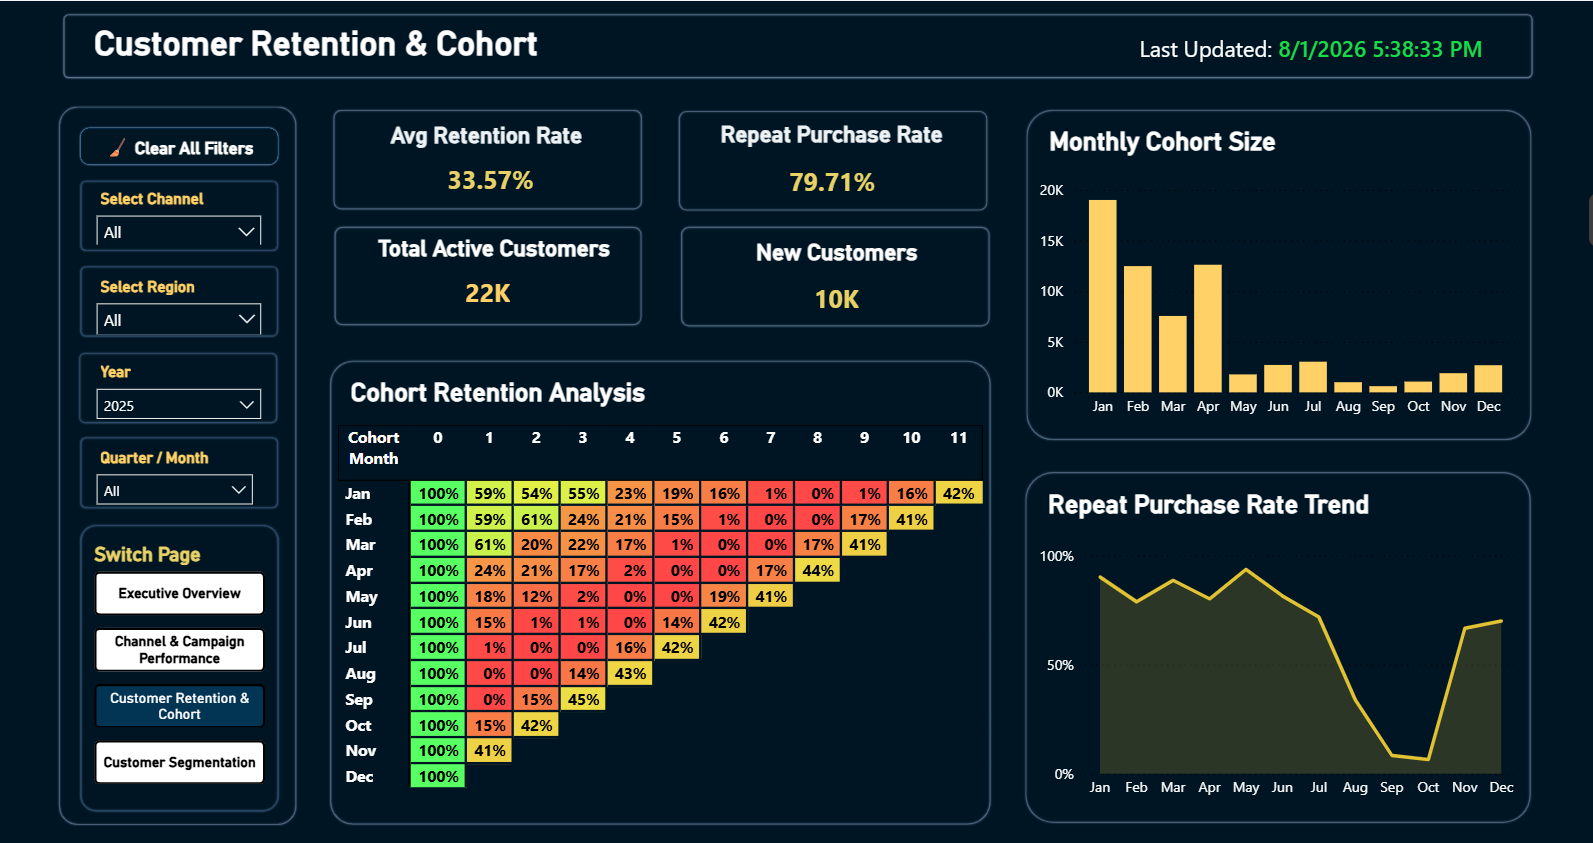

The dashboard page shown, as its layout file describes it:
{"tool":"powerbi","page":{"name":"Customer Retention & Cohort","canvas":[1280,720],"ordinal":2},"visuals":[{"type":"cardVisual","fields":{"Data":["Min(dim_customers.loaded_at)"]},"box":[1021.2,6.9,248.8,48.6],"z":0,"group":"g8"},{"type":"shape","title":"Shape","box":[13.7,54.7,206.5,637.4],"z":0,"group":"g15"},{"type":"group","id":"g1","title":"Charts","box":[236.5,54.7,1035.6,642.2],"z":0},{"type":"shape","box":[237.4,54.7,272.9,113.3],"z":0,"group":"g9"},{"type":"shape","box":[815.4,54.8,456.7,313],"z":0,"group":"g10"},{"type":"shape","box":[527.1,56,272.9,111.4],"z":0,"group":"g16"},{"type":"actionButton","title":"Clear Filters","box":[28.9,71.5,133.3,27.3],"z":0,"group":"g11"},{"type":"group","id":"g2","title":"Filters","box":[24.8,107.4,182.5,326.2],"z":0,"group":"g17"},{"type":"shape","box":[31,169.7,170.5,28.9],"z":0,"group":"g22"},{"type":"group","id":"g3","title":"Active Customers","box":[237,184,272.9,112],"z":0,"group":"g21"},{"type":"shape","box":[526.6,184.8,272.9,113.7],"z":0,"group":"g23"},{"type":"shape","box":[29.2,248.4,170.5,28.9],"z":0,"group":"g18"},{"type":"shape","box":[236.6,315.2,562.9,381.7],"z":0,"group":"g19"},{"type":"shape","box":[29.1,325.3,170.5,28.9],"z":0,"group":"g12"},{"type":"group","id":"g4","title":"Quarter / Month","box":[27.6,373.8,179.7,59.8],"z":0,"group":"g2"},{"type":"shape","box":[815.3,383.8,455.8,311.9],"z":0,"group":"g5"},{"type":"group","id":"g5","title":"Repeat Purchase","box":[815.3,383.8,456.7,311.7],"z":0,"group":"g1"},{"type":"shape","box":[31.5,404.7,170.5,28.9],"z":0,"group":"g4"},{"type":"pageNavigator","title":"Switch Page","box":[24.9,495.2,186.3,186.6],"z":0,"group":"g6"},{"type":"group","id":"g6","title":"Group 1","box":[24.9,495.2,186.3,186.6],"z":0,"group":"g13"},{"type":"actionButton","title":"Clear Filters","box":[34.2,495.3,33.4,38.7],"z":0,"group":"g14"},{"type":"actionButton","title":"Clear Filters","box":[34.2,545.2,33.4,38.7],"z":0,"group":"g20"},{"type":"actionButton","title":"Clear Filters","box":[34.2,593.3,33.4,38.7],"z":0,"group":"g24"},{"type":"actionButton","title":"Clear Filters","box":[34.2,642,33.4,38.7],"z":0,"group":"g26"},{"type":"shape","box":[237,184,272.9,112],"z":125,"group":"g3"},{"type":"cardVisual","fields":{"Data":["Sum(agg_customer_cohort.active_customers)"]},"box":[264.2,226.7,226.4,62.1],"z":250,"group":"g3"},{"type":"group","id":"g7","title":"Group 3","box":[273,193.2,205.7,43.6],"z":750,"group":"g3"},{"type":"group","id":"g8","title":"Last Updated","box":[919.7,6.9,350.4,48.6],"z":1000,"group":"g25"},{"type":"textbox","box":[919.7,15.5,143,35.8],"z":1000,"group":"g8"},{"type":"group","id":"g9","title":"Avg. Retention Rate","box":[237.4,54.7,272.9,113.3],"z":1000,"group":"g21"},{"type":"group","id":"g10","title":"Cohort Size","box":[815.4,54.8,456.7,313],"z":1000,"group":"g1"},{"type":"group","id":"g11","title":"Clear Filters","box":[28.9,71.5,133.3,27.3],"z":1000,"group":"g17"},{"type":"clusteredColumnChart","fields":{"Category":["dim_date.month_name_short"],"Y":["Sum(agg_customer_cohort.cohort_size)"]},"box":[823.9,115.7,438.5,238],"z":1000,"group":"g10"},{"type":"slicer","fields":{"Values":["dim_channels.channel_name"]},"box":[27.5,135.7,178.1,56.9],"z":1000,"group":"g22"},{"type":"textbox","box":[308.1,202.3,170.7,34.4],"z":1000,"group":"g7"},{"type":"slicer","fields":{"Values":["agg_customer_cohort.region"]},"box":[24.8,214.5,178.1,57.8],"z":1000,"group":"g18"},{"type":"slicer","fields":{"Values":["dim_date.year_value"]},"box":[25.9,293,178.1,56.9],"z":1000,"group":"g12"},{"type":"group","id":"g12","title":"Year","box":[25.9,293,178.1,61.2],"z":1000,"group":"g2"},{"type":"pivotTable","fields":{"Columns":["agg_customer_cohort.months_since_acquisition"],"Rows":["dim_date.month_name_short"],"Values":["agg_customer_cohort.Retention Rate"]},"box":[236.5,366.3,562.7,326.3],"z":1000,"group":"g19"},{"type":"slicer","fields":{"Values":["dim_date.quarter_name","dim_date.month_name_short"]},"box":[27.6,373.8,179.7,57.8],"z":1000,"group":"g4"},{"type":"textbox","box":[832.2,395,305.5,49.4],"z":1000,"group":"g5"},{"type":"textbox","box":[23.2,457.4,96.4,36.5],"z":1000,"group":"g13"},{"type":"group","id":"g13","title":"Navigation","box":[23.2,457.4,188,224.4],"z":1000,"group":"g15"},{"type":"group","id":"g14","title":"Clear Filters","box":[34.2,495.3,33.4,38.7],"z":1000,"group":"g6"},{"type":"textbox","title":"Title","box":[59.9,8.3,492,44.3],"z":1250,"group":"g25"},{"type":"image","box":[18.6,7.2,44.3,40],"z":1500,"group":"g25"},{"type":"image","box":[273,193.2,35,37],"z":1500,"group":"g7"},{"type":"group","id":"g15","title":"Left Panel","box":[13.7,54.7,206.8,637.4],"z":2000},{"type":"group","id":"g16","title":"Repeat Purchase Rate","box":[527.1,56,272.9,111.4],"z":2000,"group":"g21"},{"type":"textbox","box":[832.4,66,306.1,49.6],"z":2000,"group":"g10"},{"type":"group","id":"g17","title":"SLicers","box":[24.8,71.5,182.5,362.1],"z":2000,"group":"g15"},{"type":"cardVisual","fields":{"Data":["agg_customer_cohort.Retention Rate"]},"box":[278.9,94.7,200.2,65.8],"z":2000,"group":"g9"},{"type":"cardVisual","fields":{"Data":["agg_customer_cohort.Repeat Purchase Rate"]},"box":[580,98.9,174.5,62.9],"z":2000,"group":"g16"},{"type":"group","id":"g18","title":"Region","box":[24.8,214.5,178.1,62.8],"z":2000,"group":"g2"},{"type":"cardVisual","fields":{"Data":["Sum(agg_growth_daily.new_customers)"]},"box":[572.4,227.7,187.4,62.9],"z":2000,"group":"g23"},{"type":"group","id":"g19","title":"Matrix Box","box":[236.5,315.2,563,381.7],"z":2000,"group":"g1"},{"type":"textbox","box":[253.1,328.5,359.3,33.3],"z":2000,"group":"g19"},{"type":"lineChart","fields":{"Category":["dim_date.month_name_short"],"Y":["agg_customer_cohort.Repeat Purchase Rate"]},"box":[823.8,444.5,437.7,237.1],"z":2000,"group":"g5"},{"type":"group","id":"g20","title":"Clear Filters","box":[34.2,545.2,33.4,38.7],"z":2000,"group":"g6"},{"type":"textbox","box":[581,71.8,203.1,30],"z":2250,"group":"g28"},{"type":"textbox","box":[308.2,72.4,174.5,32.9],"z":2250,"group":"g27"},{"type":"textbox","box":[588.1,201.5,179.4,34.2],"z":2250,"group":"g29"},{"type":"image","box":[268.5,63.3,40,37.2],"z":2500,"group":"g27"},{"type":"image","box":[545.4,66,40,37.2],"z":2500,"group":"g28"},{"type":"image","box":[566.3,194.8,35.8,37.2],"z":2500,"group":"g29"},{"type":"group","id":"g21","title":"KPI Cards","box":[237,54.7,563,243.8],"z":3000,"group":"g1"},{"type":"group","id":"g22","title":"Channel Slicer","box":[27.5,135.7,178.1,62.9],"z":3000,"group":"g2"},{"type":"group","id":"g23","title":"New customers","box":[526.6,184.8,272.9,113.7],"z":3000,"group":"g21"},{"type":"group","id":"g24","title":"Clear Filters","box":[34.2,593.3,33.4,38.7],"z":3000,"group":"g6"},{"type":"group","id":"g25","title":"heading","box":[18.6,6.9,1251.4,48.6],"z":4000},{"type":"textbox","box":[30.6,107.4,166.8,31.1],"z":4000,"group":"g2"},{"type":"group","id":"g26","title":"Clear Filters","box":[34.2,642,33.4,38.7],"z":4000,"group":"g6"},{"type":"group","id":"g27","title":"Group 4","box":[268.5,63.3,214.2,42],"z":4001,"group":"g9"},{"type":"group","id":"g28","title":"Group 5","box":[545.4,66,238.7,37.2],"z":4001,"group":"g16"},{"type":"group","id":"g29","title":"Group 2","box":[566.3,194.8,201.2,40.9],"z":4001,"group":"g23"}]}

Visuals, with their boxes on the page's 1280x720 design canvas (x1, y1, x2, y2). These are canvas units, not pixel positions in the 1593x843 screenshot, which may show the page scaled, cropped or inside an application window:
cardVisual - Min(dim_customers.loaded_at): <box>1021,7,1270,56</box>
"Shape" shape: <box>14,55,220,692</box>
"Charts" group: <box>236,55,1272,697</box>
shape: <box>237,55,510,168</box>
shape: <box>815,55,1272,368</box>
shape: <box>527,56,800,167</box>
"Clear Filters" actionButton: <box>29,72,162,99</box>
"Filters" group: <box>25,107,207,434</box>
shape: <box>31,170,202,199</box>
"Active Customers" group: <box>237,184,510,296</box>
shape: <box>527,185,800,298</box>
shape: <box>29,248,200,277</box>
shape: <box>237,315,800,697</box>
shape: <box>29,325,200,354</box>
"Quarter / Month" group: <box>28,374,207,434</box>
shape: <box>815,384,1271,696</box>
"Repeat Purchase" group: <box>815,384,1272,696</box>
shape: <box>32,405,202,434</box>
"Switch Page" pageNavigator: <box>25,495,211,682</box>
"Group 1" group: <box>25,495,211,682</box>
"Clear Filters" actionButton: <box>34,495,68,534</box>
"Clear Filters" actionButton: <box>34,545,68,584</box>
"Clear Filters" actionButton: <box>34,593,68,632</box>
"Clear Filters" actionButton: <box>34,642,68,681</box>
shape: <box>237,184,510,296</box>
cardVisual - Sum(agg_customer_cohort.active_customers): <box>264,227,491,289</box>
"Group 3" group: <box>273,193,479,237</box>
"Last Updated" group: <box>920,7,1270,56</box>
textbox: <box>920,16,1063,51</box>
"Avg. Retention Rate" group: <box>237,55,510,168</box>
"Cohort Size" group: <box>815,55,1272,368</box>
"Clear Filters" group: <box>29,72,162,99</box>
clusteredColumnChart - dim_date.month_name_short x Sum(agg_customer_cohort.cohort_size): <box>824,116,1262,354</box>
slicer - dim_channels.channel_name: <box>28,136,206,193</box>
textbox: <box>308,202,479,237</box>
slicer - agg_customer_cohort.region: <box>25,214,203,272</box>
slicer - dim_date.year_value: <box>26,293,204,350</box>
"Year" group: <box>26,293,204,354</box>
pivotTable - agg_customer_cohort.months_since_acquisition x dim_date.month_name_short: <box>236,366,799,693</box>
slicer - dim_date.quarter_name x dim_date.month_name_short: <box>28,374,207,432</box>
textbox: <box>832,395,1138,444</box>
textbox: <box>23,457,120,494</box>
"Navigation" group: <box>23,457,211,682</box>
"Clear Filters" group: <box>34,495,68,534</box>
"Title" textbox: <box>60,8,552,53</box>
image: <box>19,7,63,47</box>
image: <box>273,193,308,230</box>
"Left Panel" group: <box>14,55,220,692</box>
"Repeat Purchase Rate" group: <box>527,56,800,167</box>
textbox: <box>832,66,1138,116</box>
"SLicers" group: <box>25,72,207,434</box>
cardVisual - agg_customer_cohort.Retention Rate: <box>279,95,479,160</box>
cardVisual - agg_customer_cohort.Repeat Purchase Rate: <box>580,99,754,162</box>
"Region" group: <box>25,214,203,277</box>
cardVisual - Sum(agg_growth_daily.new_customers): <box>572,228,760,291</box>
"Matrix Box" group: <box>236,315,800,697</box>
textbox: <box>253,328,612,362</box>
lineChart - dim_date.month_name_short x agg_customer_cohort.Repeat Purchase Rate: <box>824,444,1262,682</box>
"Clear Filters" group: <box>34,545,68,584</box>
textbox: <box>581,72,784,102</box>
textbox: <box>308,72,483,105</box>
textbox: <box>588,202,768,236</box>
image: <box>268,63,308,100</box>
image: <box>545,66,585,103</box>
image: <box>566,195,602,232</box>
"KPI Cards" group: <box>237,55,800,298</box>
"Channel Slicer" group: <box>28,136,206,199</box>
"New customers" group: <box>527,185,800,298</box>
"Clear Filters" group: <box>34,593,68,632</box>
"heading" group: <box>19,7,1270,56</box>
textbox: <box>31,107,197,138</box>
"Clear Filters" group: <box>34,642,68,681</box>
"Group 4" group: <box>268,63,483,105</box>
"Group 5" group: <box>545,66,784,103</box>
"Group 2" group: <box>566,195,768,236</box>
